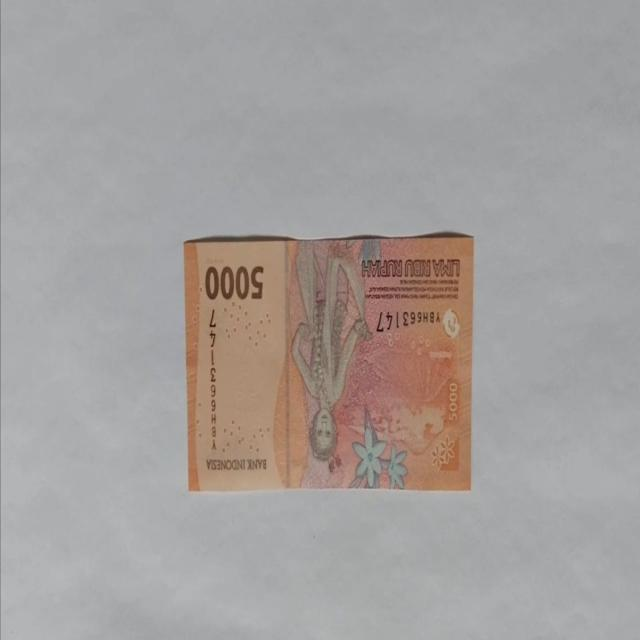lima ribu rupiah: (183, 231, 474, 493)
